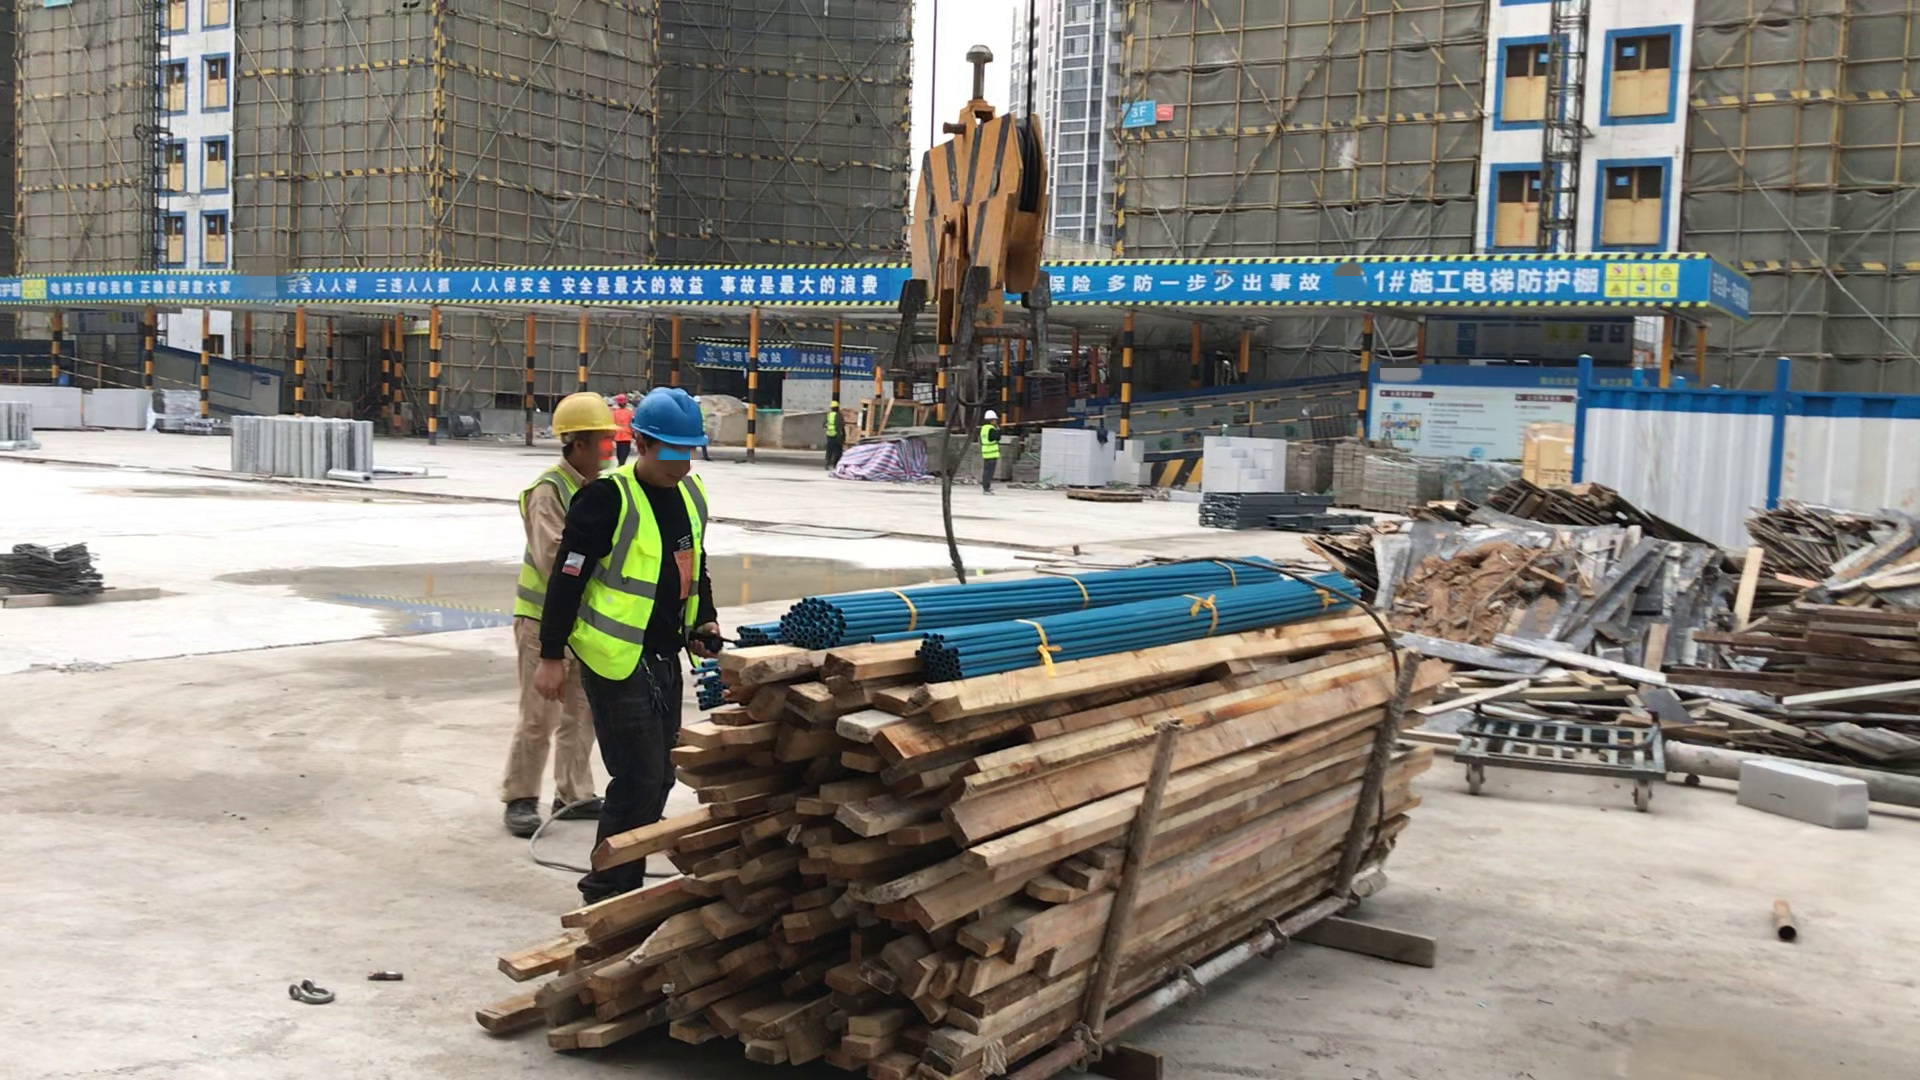board: (1365, 496, 1729, 720), (1749, 492, 1920, 718)
brick: (1027, 424, 1290, 495), (3, 369, 198, 439), (1738, 750, 1872, 838)
fence: (1046, 389, 1385, 450)
helmet: (626, 383, 711, 456), (544, 386, 622, 447), (973, 403, 1003, 426), (612, 388, 632, 408), (827, 396, 843, 414)
hook: (822, 20, 1118, 391)
person: (538, 373, 736, 941), (506, 376, 623, 868), (968, 401, 1016, 515), (820, 393, 853, 486), (608, 386, 639, 471)
slogan: (1, 235, 1710, 335), (1354, 354, 1598, 472), (685, 332, 884, 382), (1692, 241, 1771, 334), (1106, 82, 1176, 142)
vest: (555, 455, 718, 696), (507, 455, 590, 631), (611, 405, 634, 450), (978, 421, 1003, 460), (821, 408, 845, 438)
wood: (476, 534, 1456, 1080), (1690, 576, 1920, 777), (1285, 441, 1423, 514)
